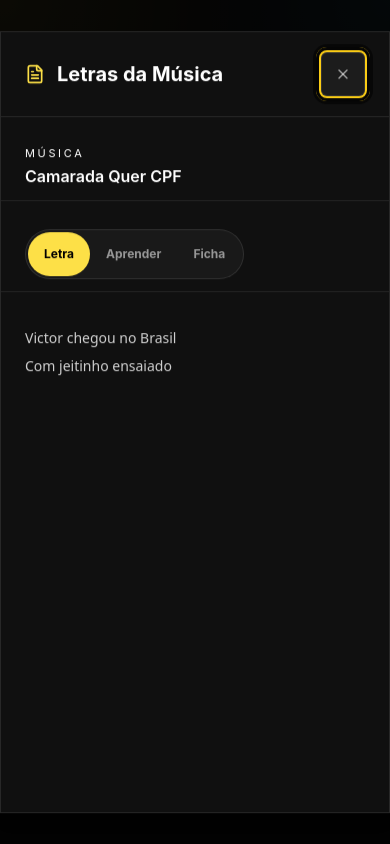
Scenario: LyricsDialog — toggle à 3 états sur une chanson pilote › revenir à Letra après Ficha restaure les paroles brutes
Step 1. Click the button "Ficha" → (209, 254), box [177,232,241,276]
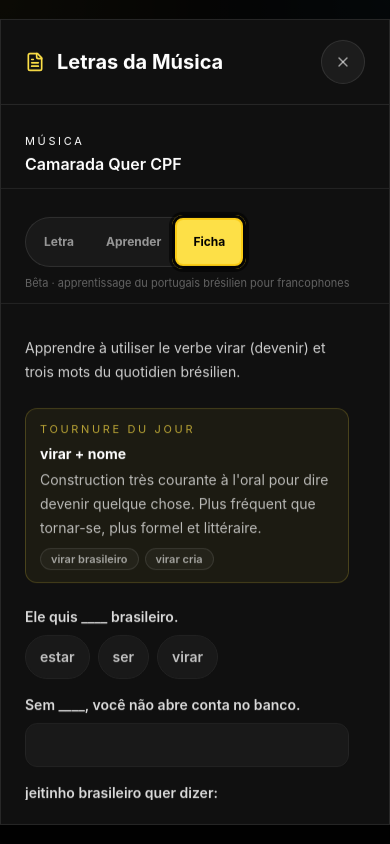
Result: the text "Apprendre à utiliser le verbe virar" is shown at [25,339,326,380]
Step 2. Click the button "Letra" → (59, 241), box [28,219,90,263]
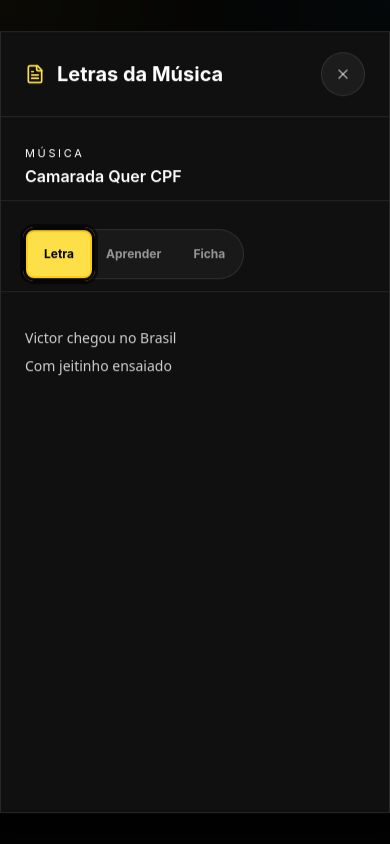
Result: the text "Victor chegou no Brasil Com jeitinho ensaiado" is shown at [25,328,176,375]
